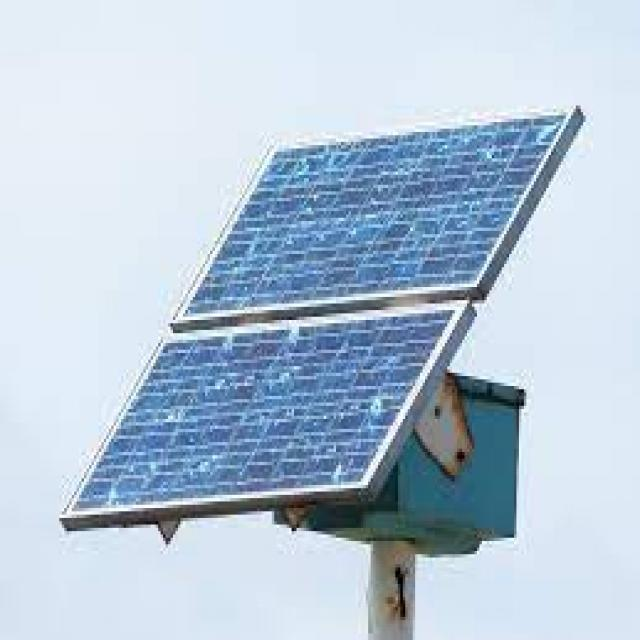faulty: (63, 302, 471, 515), (174, 112, 575, 324)
